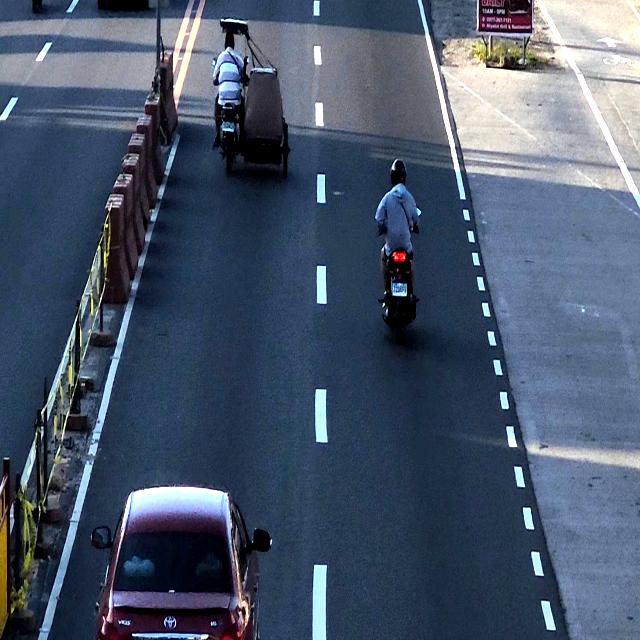License-Plate: (390, 283, 412, 299), (219, 122, 235, 132)
Motorcycle: (107, 488, 263, 640), (375, 158, 423, 346)
Tricycle: (215, 19, 291, 175)
